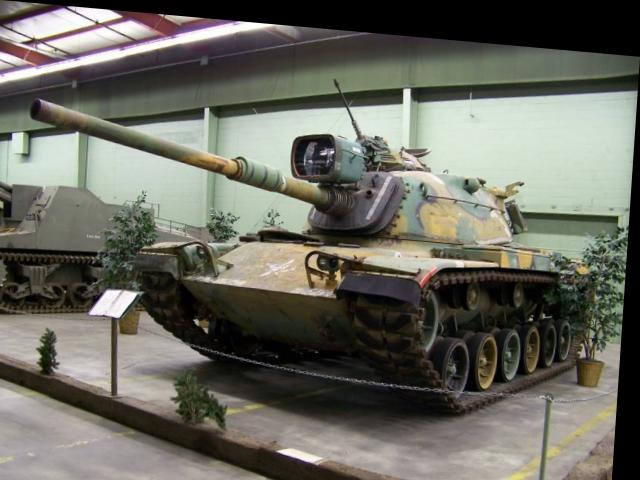tank: (129, 110, 615, 404)
